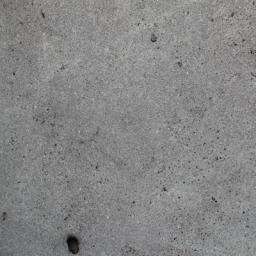FOD: (66, 235, 85, 256)
